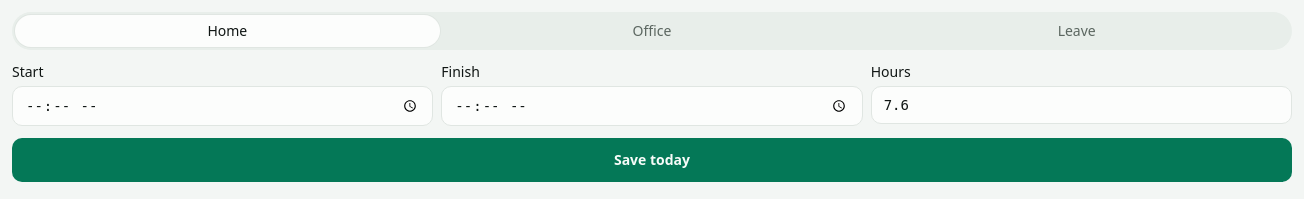
it: DayEditor › times › moves the finish when the hours are typed
The width and height of the screenshot is (1304, 199).
Type "08:30" into the time field labelled "Start" at (223, 106), box [12,86,433,126]
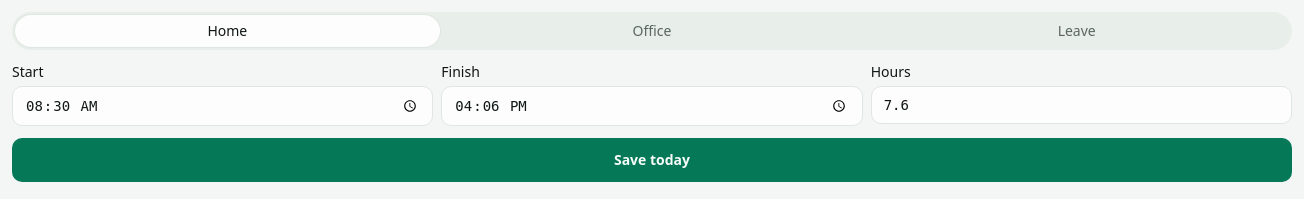
Replace the text in the field labelled "Hours" with "8" at (1081, 105), box [871,86,1292,124]
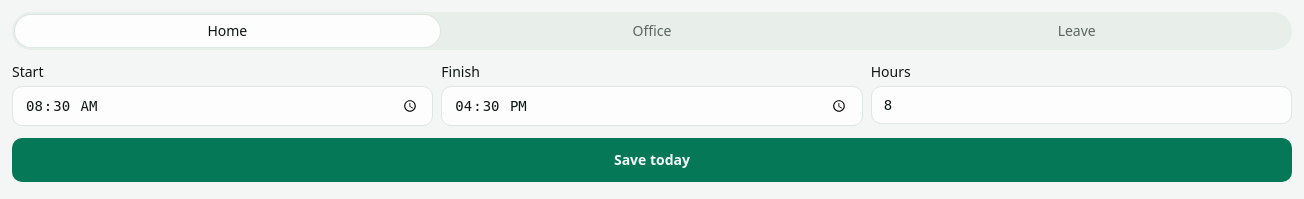
Now the time field labelled "Finish" holds "16:30", box [441,86,863,126]
